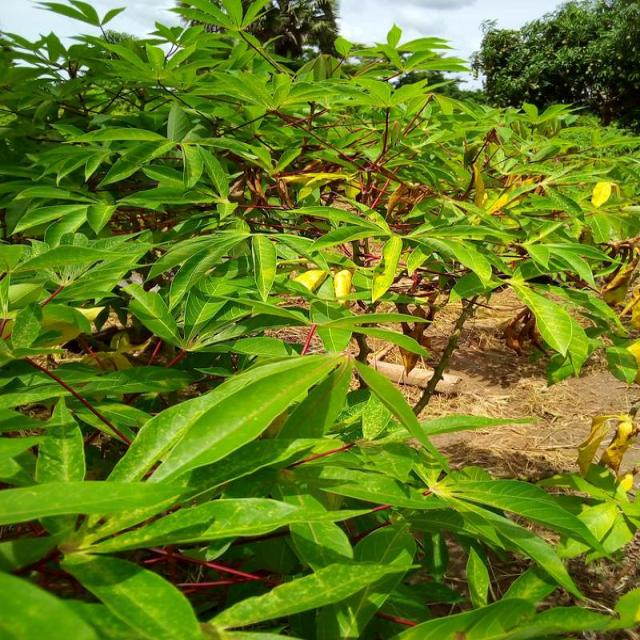cassava leaf: (0, 1, 638, 637), (106, 349, 350, 486)
